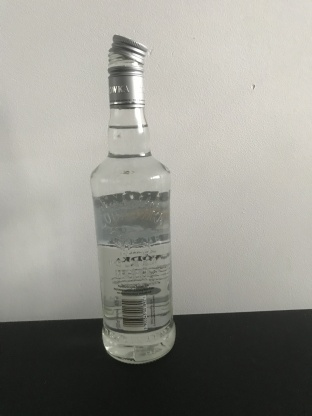nakretka: (106, 32, 149, 110)
